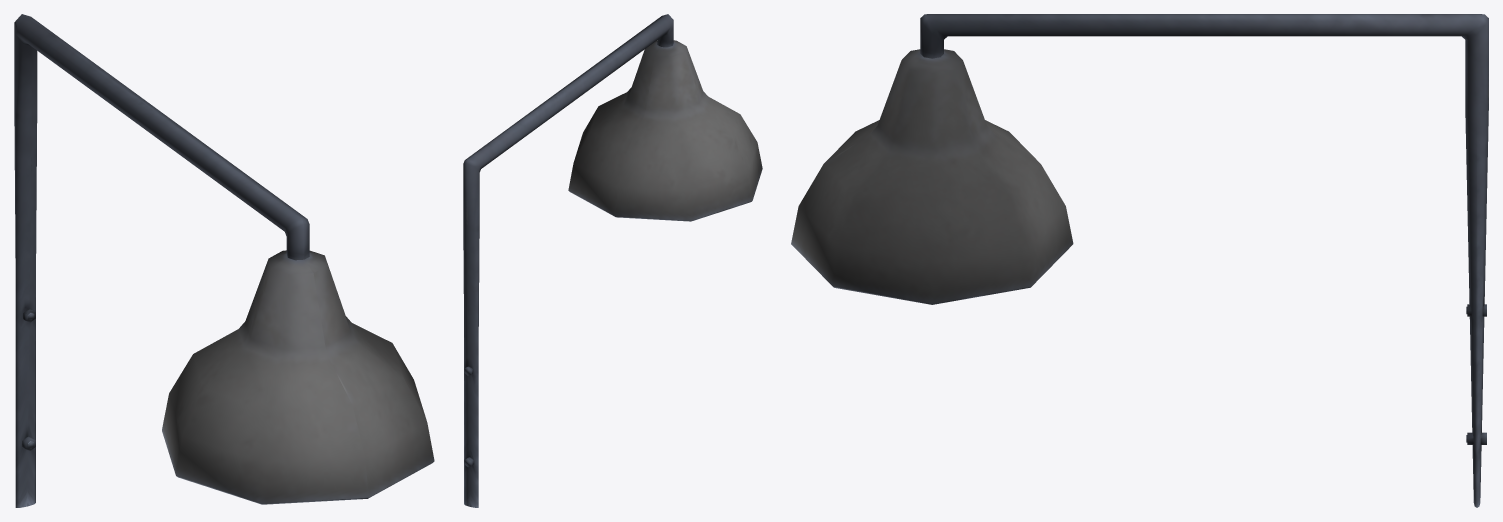
Rendered from prop_lamp.glb.
3 views of the same model, side by side, from view 1: azimuth 30°, elevation 25°; view 2: azimuth 150°, elevation 25°; view 3: azimuth 270°, elevation 25° (orthographic). The views are drawn at different scales.
Parts seen in each view (by area): view 1: prop_lamp; view 2: prop_lamp; view 3: prop_lamp.
Part boxes in pixels (x1,y1,x2,y2): prop_lamp: (14, 14, 434, 507); prop_lamp: (463, 14, 762, 507); prop_lamp: (791, 14, 1488, 507).
Size of the model in its own units: 0.5184 by 0.9895 by 1.28.
Materials: 1 (1 with a texture image).
